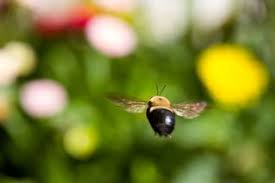insect: (106, 84, 205, 136)
